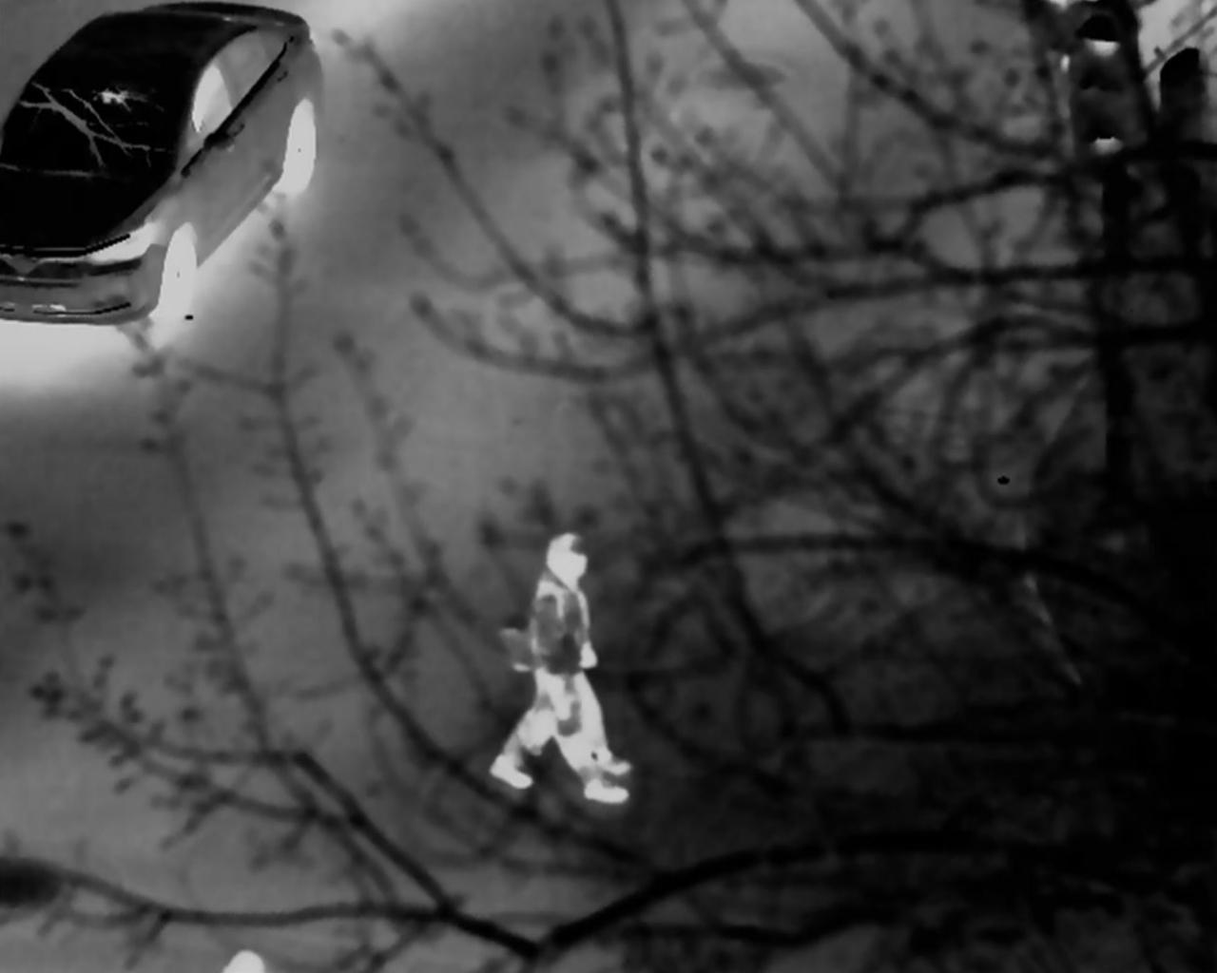person: (491, 536, 631, 799)
